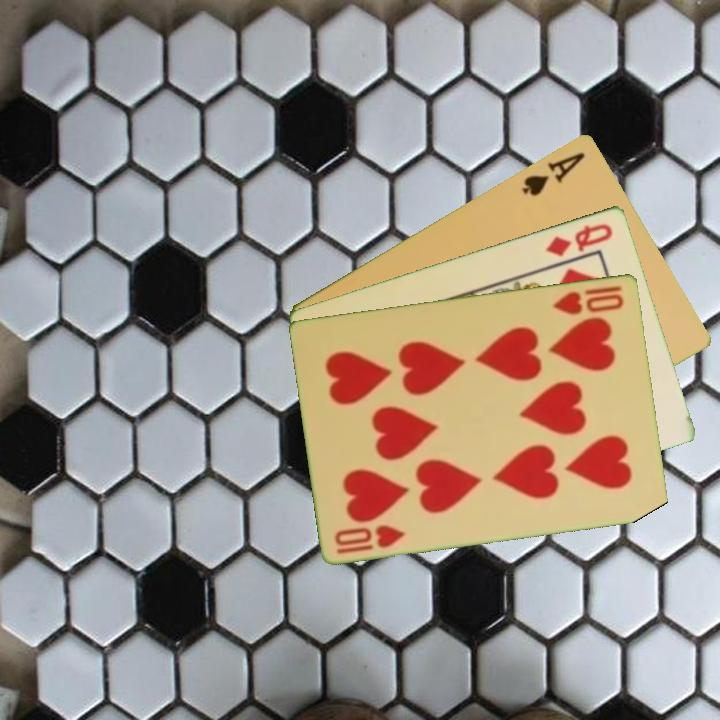10h: (331, 520, 409, 556), (549, 287, 627, 317)
As: (518, 147, 588, 199)
Qd: (542, 219, 616, 259)
